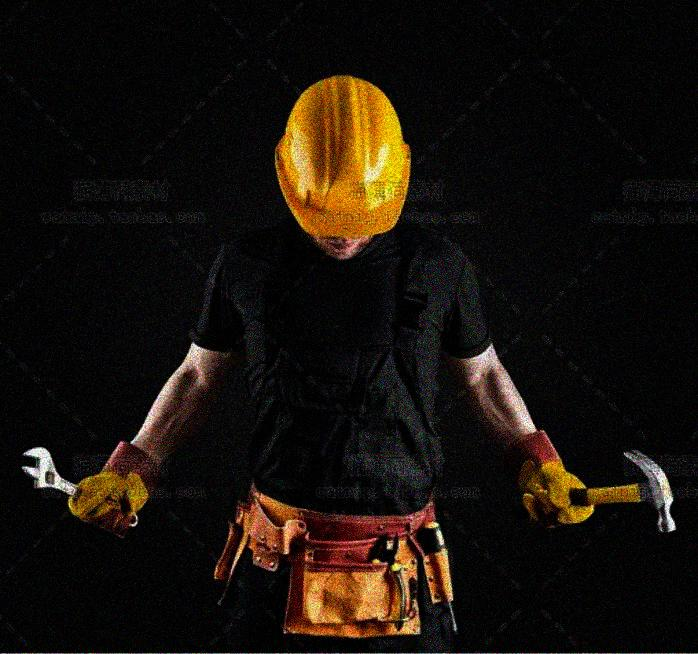helmet: (272, 75, 416, 259)
